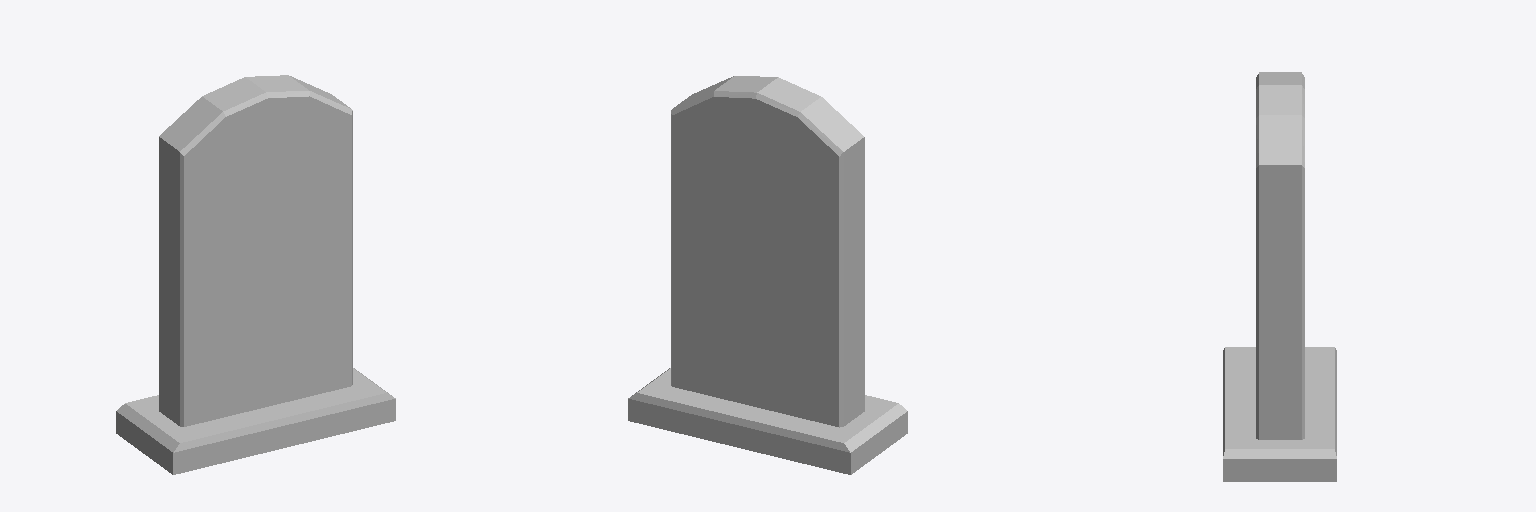
File: Low Poly Old Mossy Gravestone.obj
3 views of the same model, side by side, from view 1: azimuth 30°, elevation 25°; view 2: azimuth 150°, elevation 25°; view 3: azimuth 270°, elevation 25° (orthographic).
Parts seen in each view (by area): view 1: Low_Poly_Old_Mossy_Gravestone; view 2: Low_Poly_Old_Mossy_Gravestone; view 3: Low_Poly_Old_Mossy_Gravestone.
Part boxes in pixels (bbox=[...]): Low_Poly_Old_Mossy_Gravestone: bbox=[116, 75, 395, 474]; Low_Poly_Old_Mossy_Gravestone: bbox=[628, 76, 907, 474]; Low_Poly_Old_Mossy_Gravestone: bbox=[1223, 72, 1336, 481].
Size of the model in its own units: 0.5018 by 0.7379 by 0.2229.